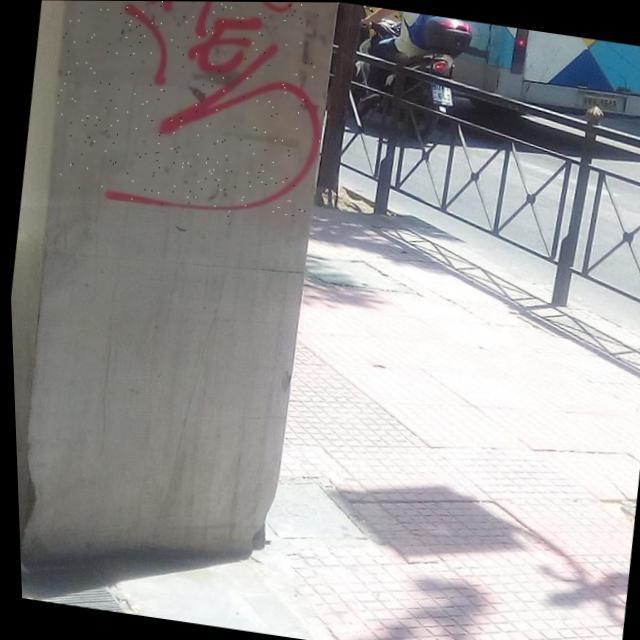-: (37, 0, 342, 228)
